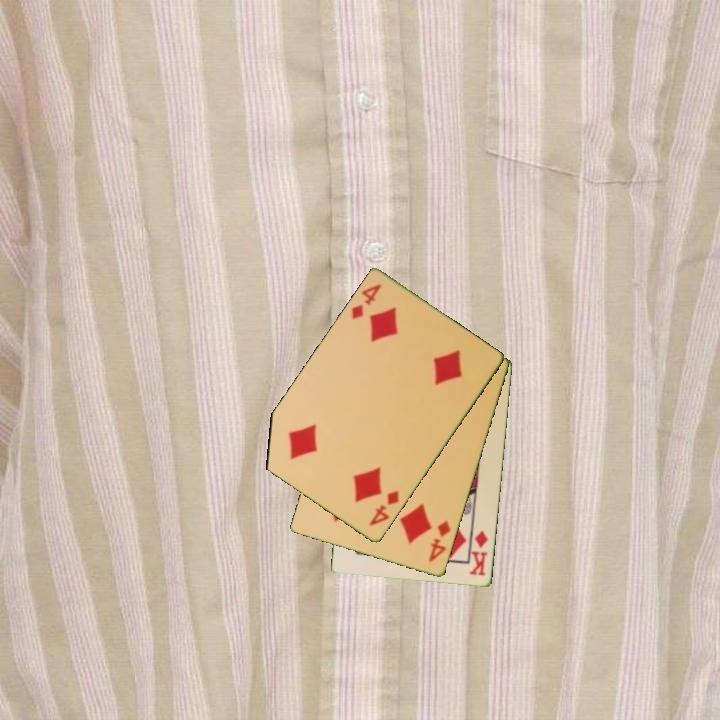4d: (365, 487, 402, 529), (348, 280, 385, 322), (425, 517, 454, 565)
Kd: (466, 527, 491, 579)
